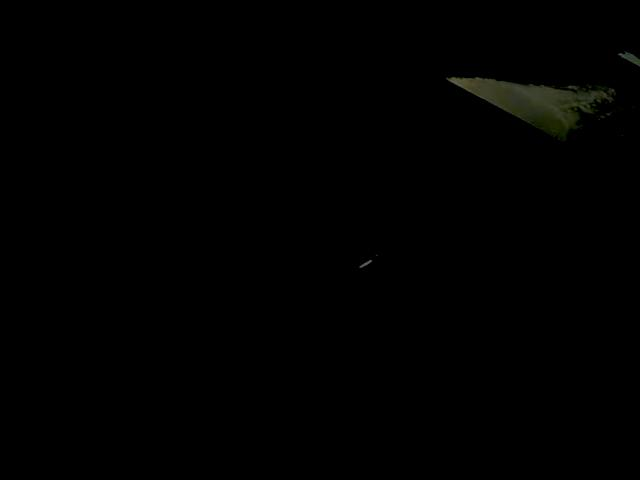iha: (344, 246, 412, 288)
